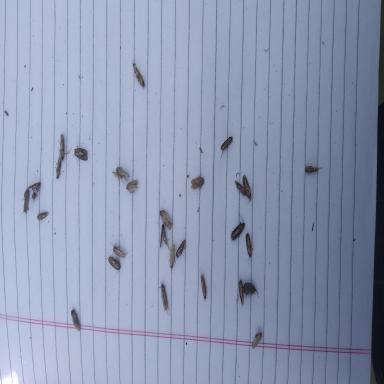pbw: (230, 210, 246, 243), (155, 201, 172, 230), (132, 59, 145, 89), (159, 282, 170, 316), (104, 254, 120, 277), (58, 134, 72, 160), (220, 135, 233, 159), (242, 174, 252, 204), (110, 242, 128, 258), (199, 266, 207, 301), (20, 188, 30, 216), (116, 166, 130, 186), (190, 174, 204, 192), (74, 146, 88, 164), (236, 278, 244, 309), (175, 240, 187, 259), (159, 224, 168, 249), (246, 232, 253, 264), (167, 243, 175, 269), (71, 309, 80, 331), (55, 156, 63, 179), (252, 331, 262, 349), (305, 163, 323, 173), (235, 180, 246, 195), (126, 180, 138, 193), (37, 211, 48, 224), (112, 172, 123, 184), (28, 181, 40, 192)
